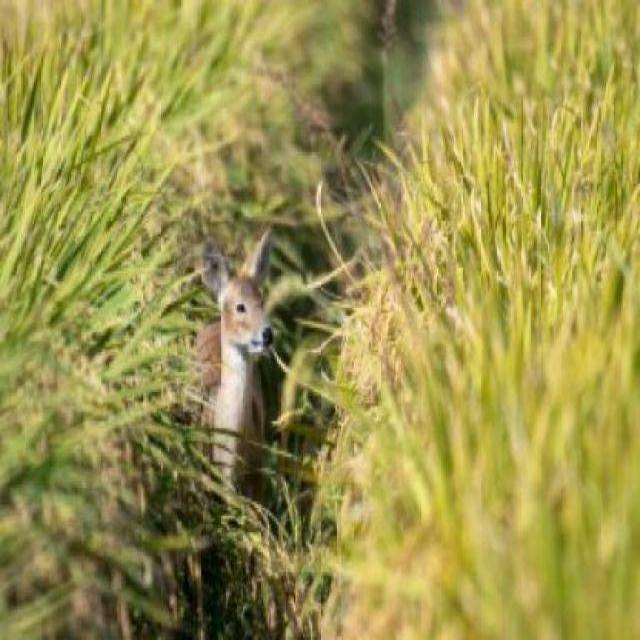deer: (140, 218, 289, 537)
